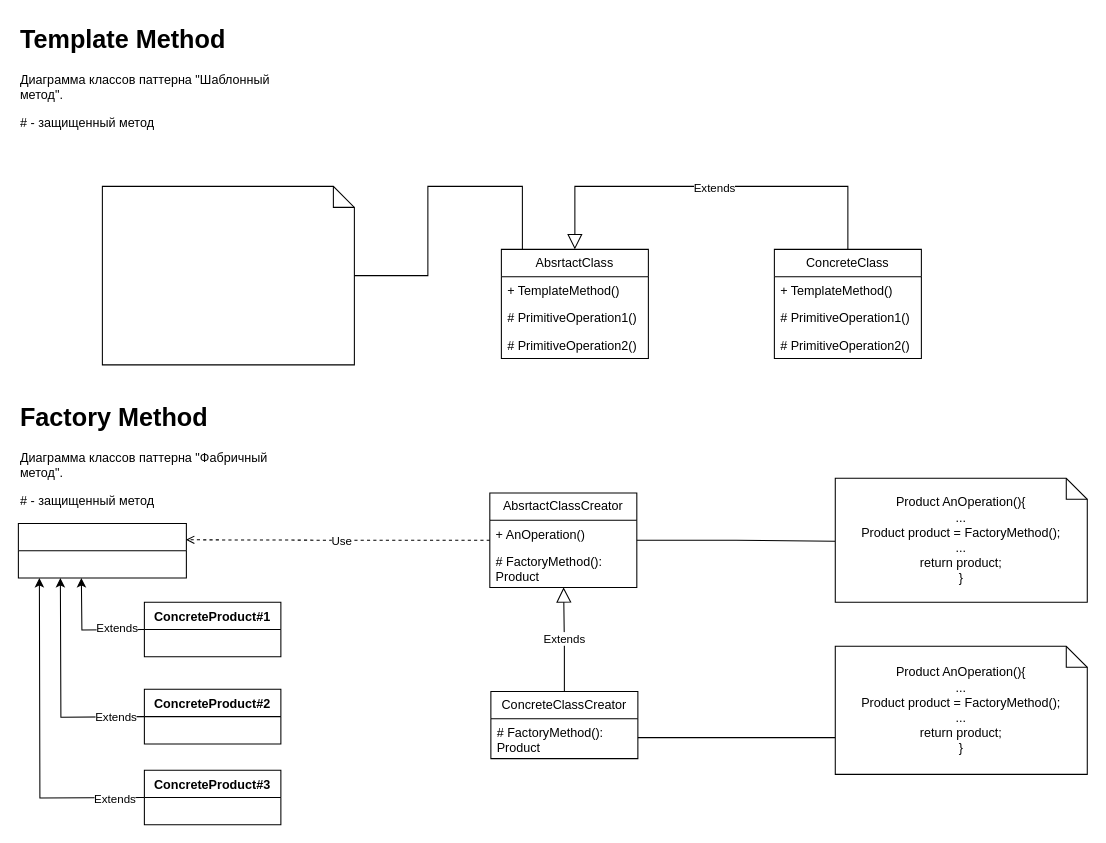
This 1106x843 diagram has some shape labels left out. Each missing label, with the centre of its shape:
"Product" belongs at (101,550).
"void TemplateMethod(){ PrimitiveOperation(); ... PromotoveOperation(); }" belongs at (227,275).
